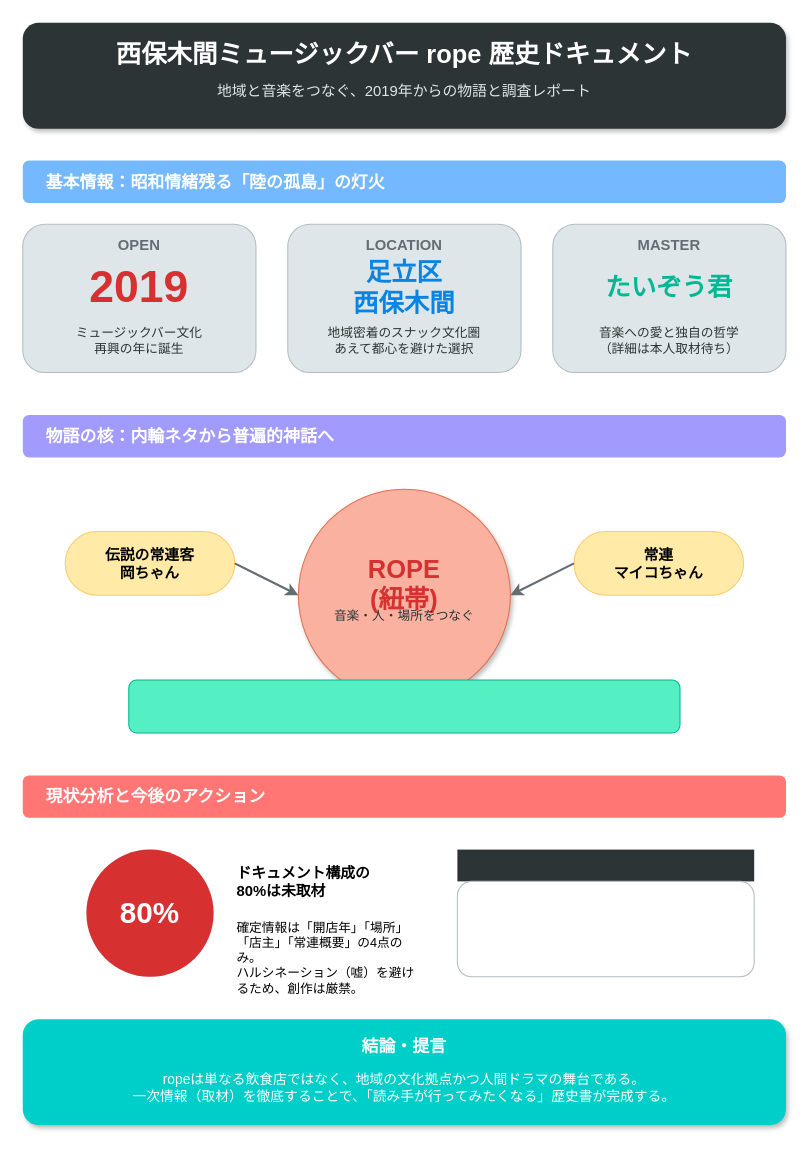
This 810x1150 diagram has some shape labels left out. Each missing label, with the centre of its shape:
1. マスターたいぞう君への詳細インタビュー 2. 店名の正確な由来と開店動機の聴取 3. コロナ禍での営業実態の調査 4. 常連客（岡ちゃん他）への裏取り取材: [605,928]
NEXT ACTIONS: [605,865]
【重要エピソード】電動自転車の充電切れ伝説 計算を超えた喜びに身を委ねてしまう「人間の本性」の象徴: [404,706]
